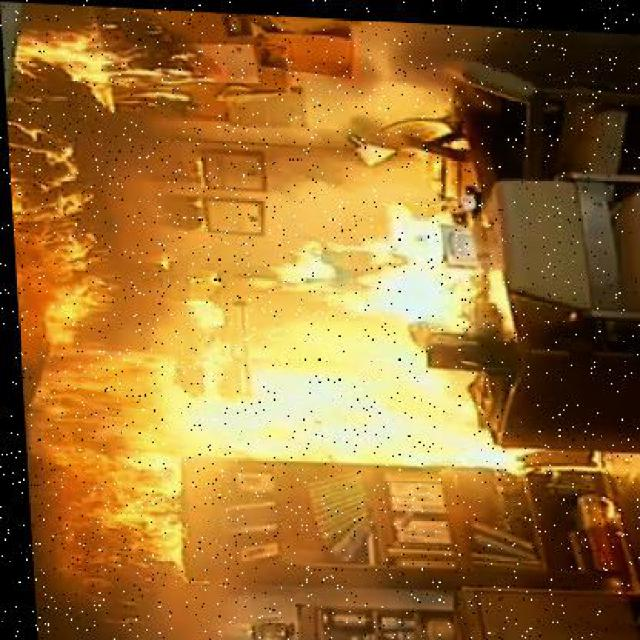fire: (166, 203, 458, 461), (20, 144, 173, 575), (17, 3, 188, 111)
